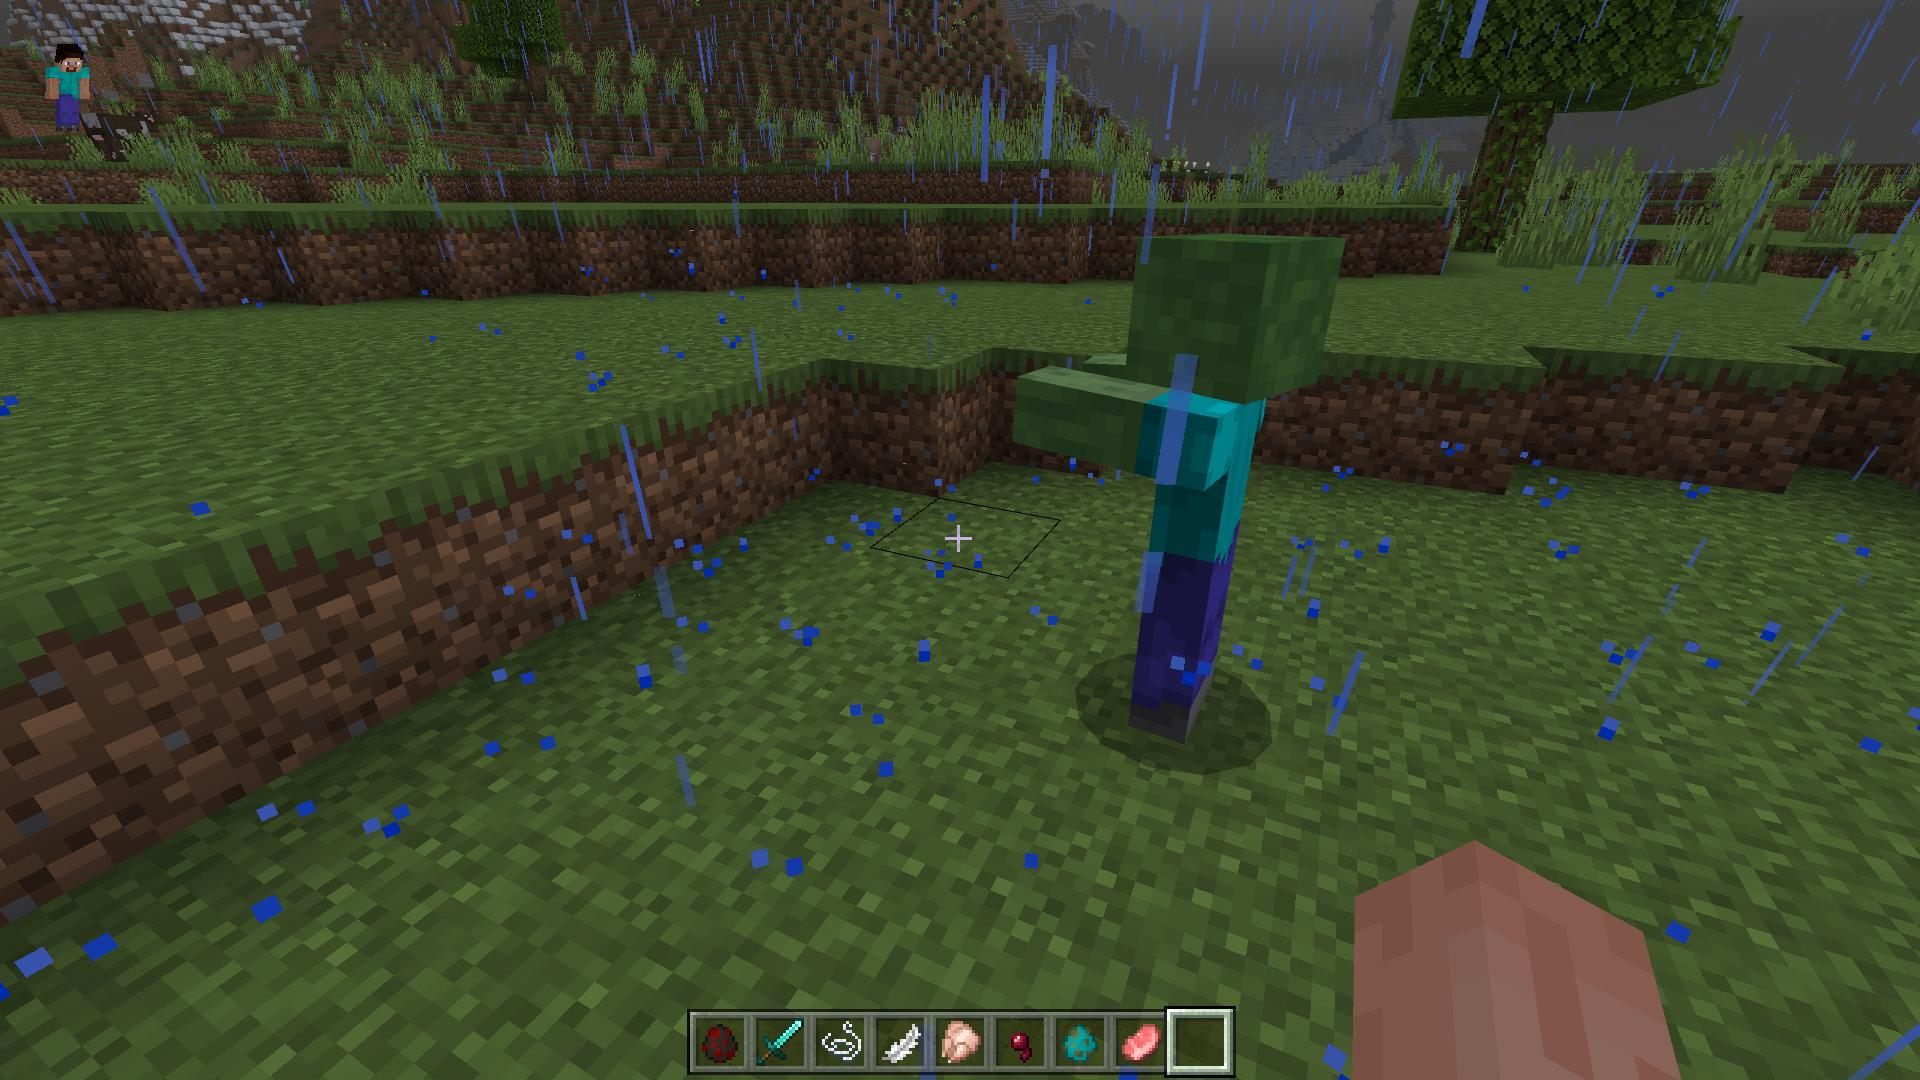zombie: (1011, 225, 1350, 746)
